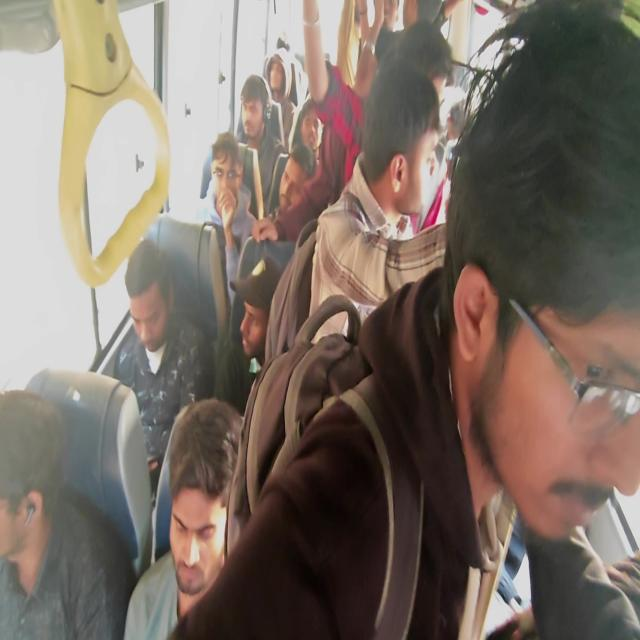person: (471, 109, 640, 604), (0, 389, 77, 593), (356, 76, 458, 226), (145, 398, 230, 568), (237, 247, 287, 364), (119, 250, 176, 350), (409, 22, 464, 99), (198, 139, 248, 211), (274, 143, 320, 212), (236, 76, 274, 143), (264, 58, 307, 108), (299, 104, 334, 152), (411, 0, 448, 40), (274, 30, 306, 75), (371, 0, 403, 41)
